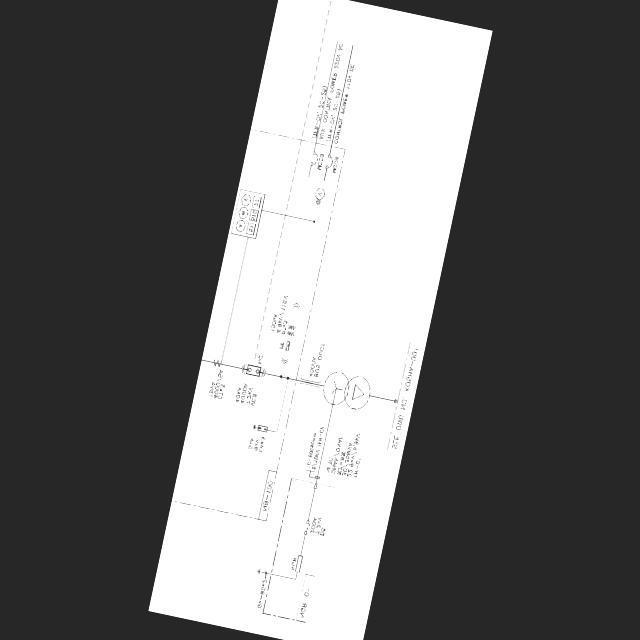A: (234, 218, 246, 231)
CB: (246, 363, 262, 375)
CH: (312, 483, 318, 488), (394, 397, 398, 402)
CT: (212, 357, 222, 366)
GND: (256, 566, 261, 574), (252, 422, 256, 428)
LA: (257, 424, 268, 431)
MCCB: (308, 148, 318, 166), (324, 153, 334, 170)
PF2: (284, 340, 290, 350)
PT: (286, 324, 295, 334)
V: (240, 192, 251, 206), (314, 187, 325, 200)
VS: (314, 198, 320, 204)
ds: (303, 520, 310, 534)
